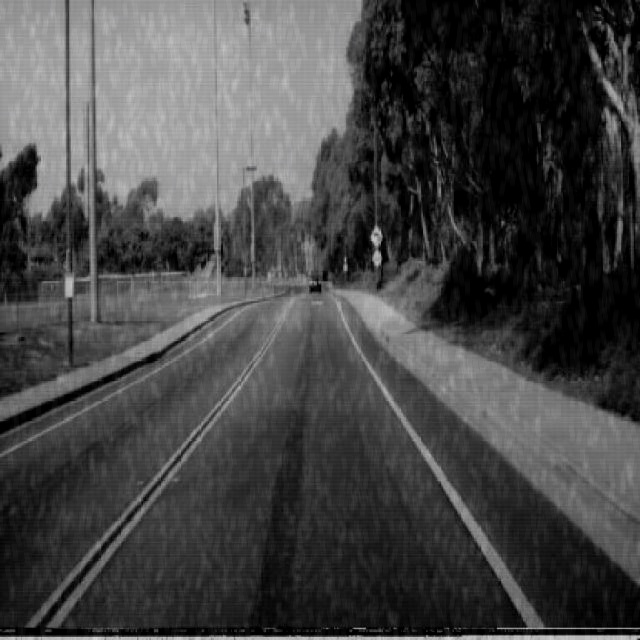turnLeft: (369, 223, 383, 250)
